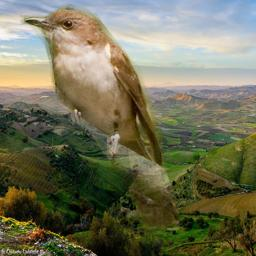Cuckoo: (20, 4, 180, 235)
